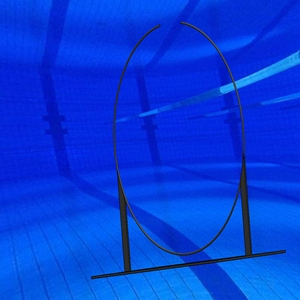circle: (90, 21, 286, 280)
